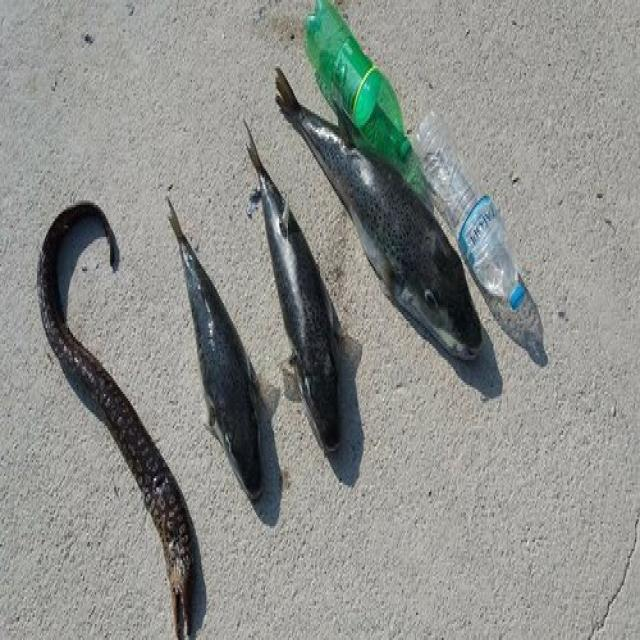Balik: (277, 69, 481, 359), (248, 126, 340, 450), (167, 199, 262, 501)
